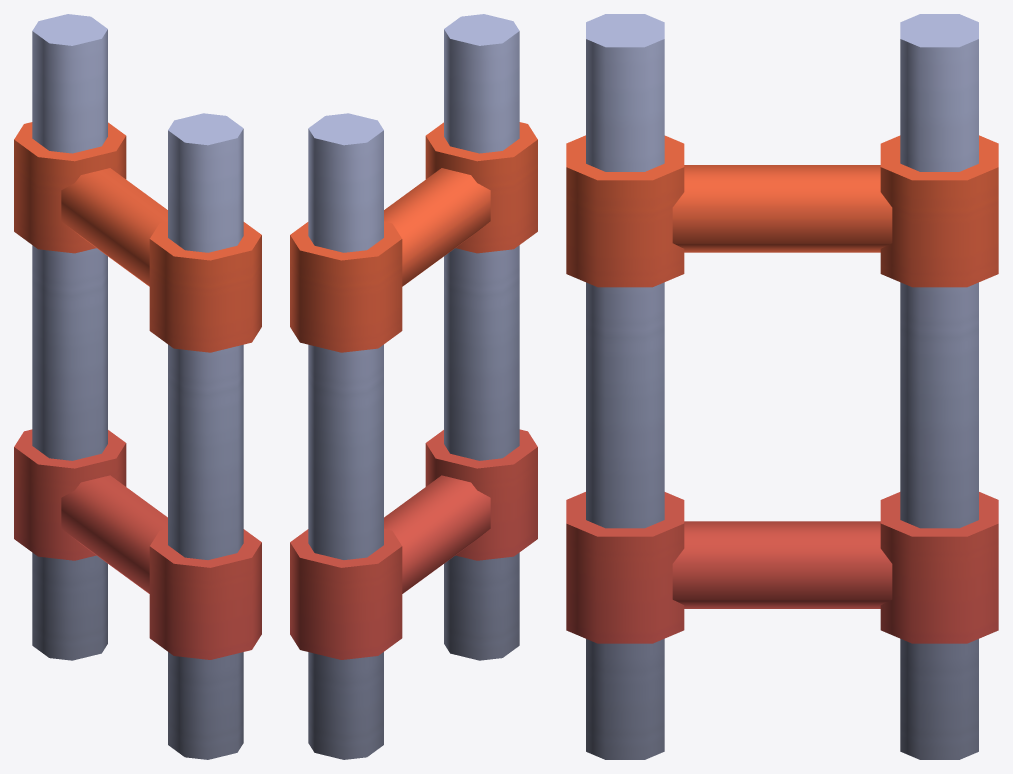
The model's file is ladder-color.fbx.
3 renders of one model, left to right at view 1: azimuth 30°, elevation 25°; view 2: azimuth 150°, elevation 25°; view 3: azimuth 270°, elevation 25°, orthographic. The views are drawn at different scales.
Parts seen in each view (by area): view 1: ladder-color; view 2: ladder-color; view 3: ladder-color.
Boxes of the visible parts, x1=… form: ladder-color: x1=14, y1=14, x2=261, y2=759; ladder-color: x1=290, y1=14, x2=537, y2=759; ladder-color: x1=566, y1=14, x2=998, y2=759.
Size of the model in its own units: 15 by 100 by 55.
